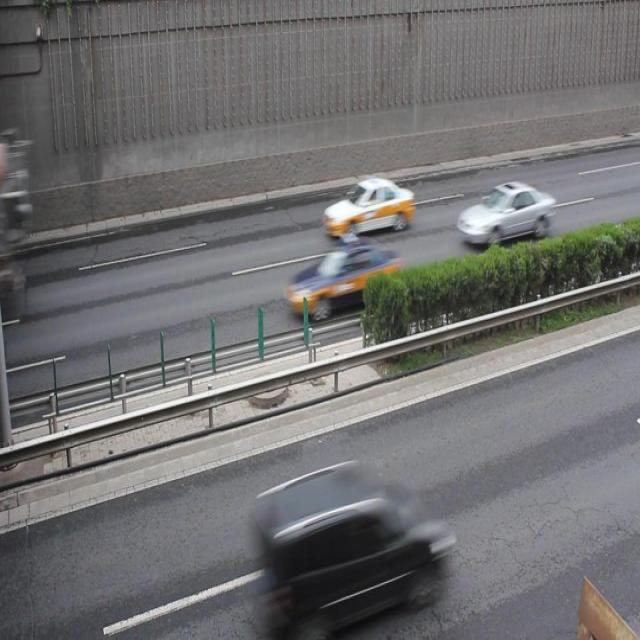car: (253, 462, 442, 628), (284, 240, 401, 318), (457, 182, 552, 246), (323, 174, 413, 236)
